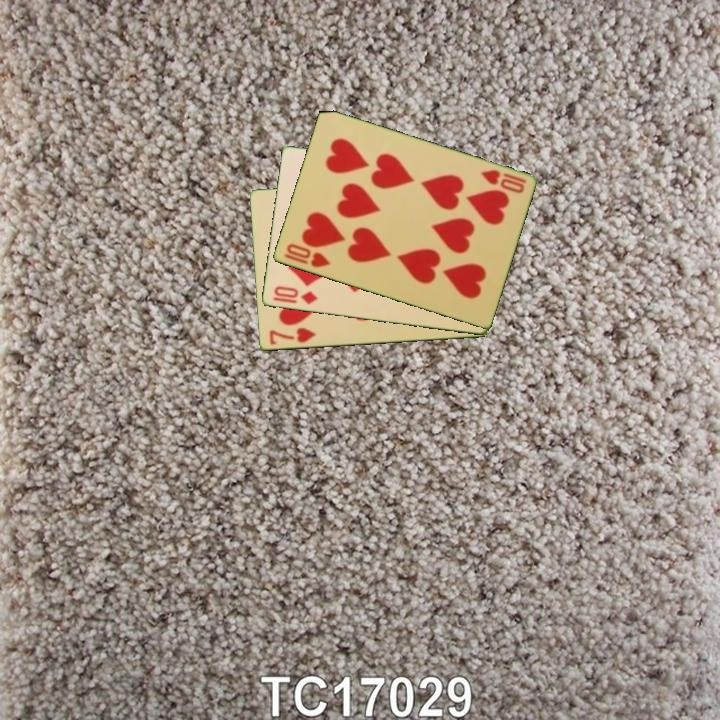10d: (270, 283, 321, 308)
10h: (280, 240, 333, 271), (477, 166, 529, 196)
7h: (265, 324, 319, 348)
